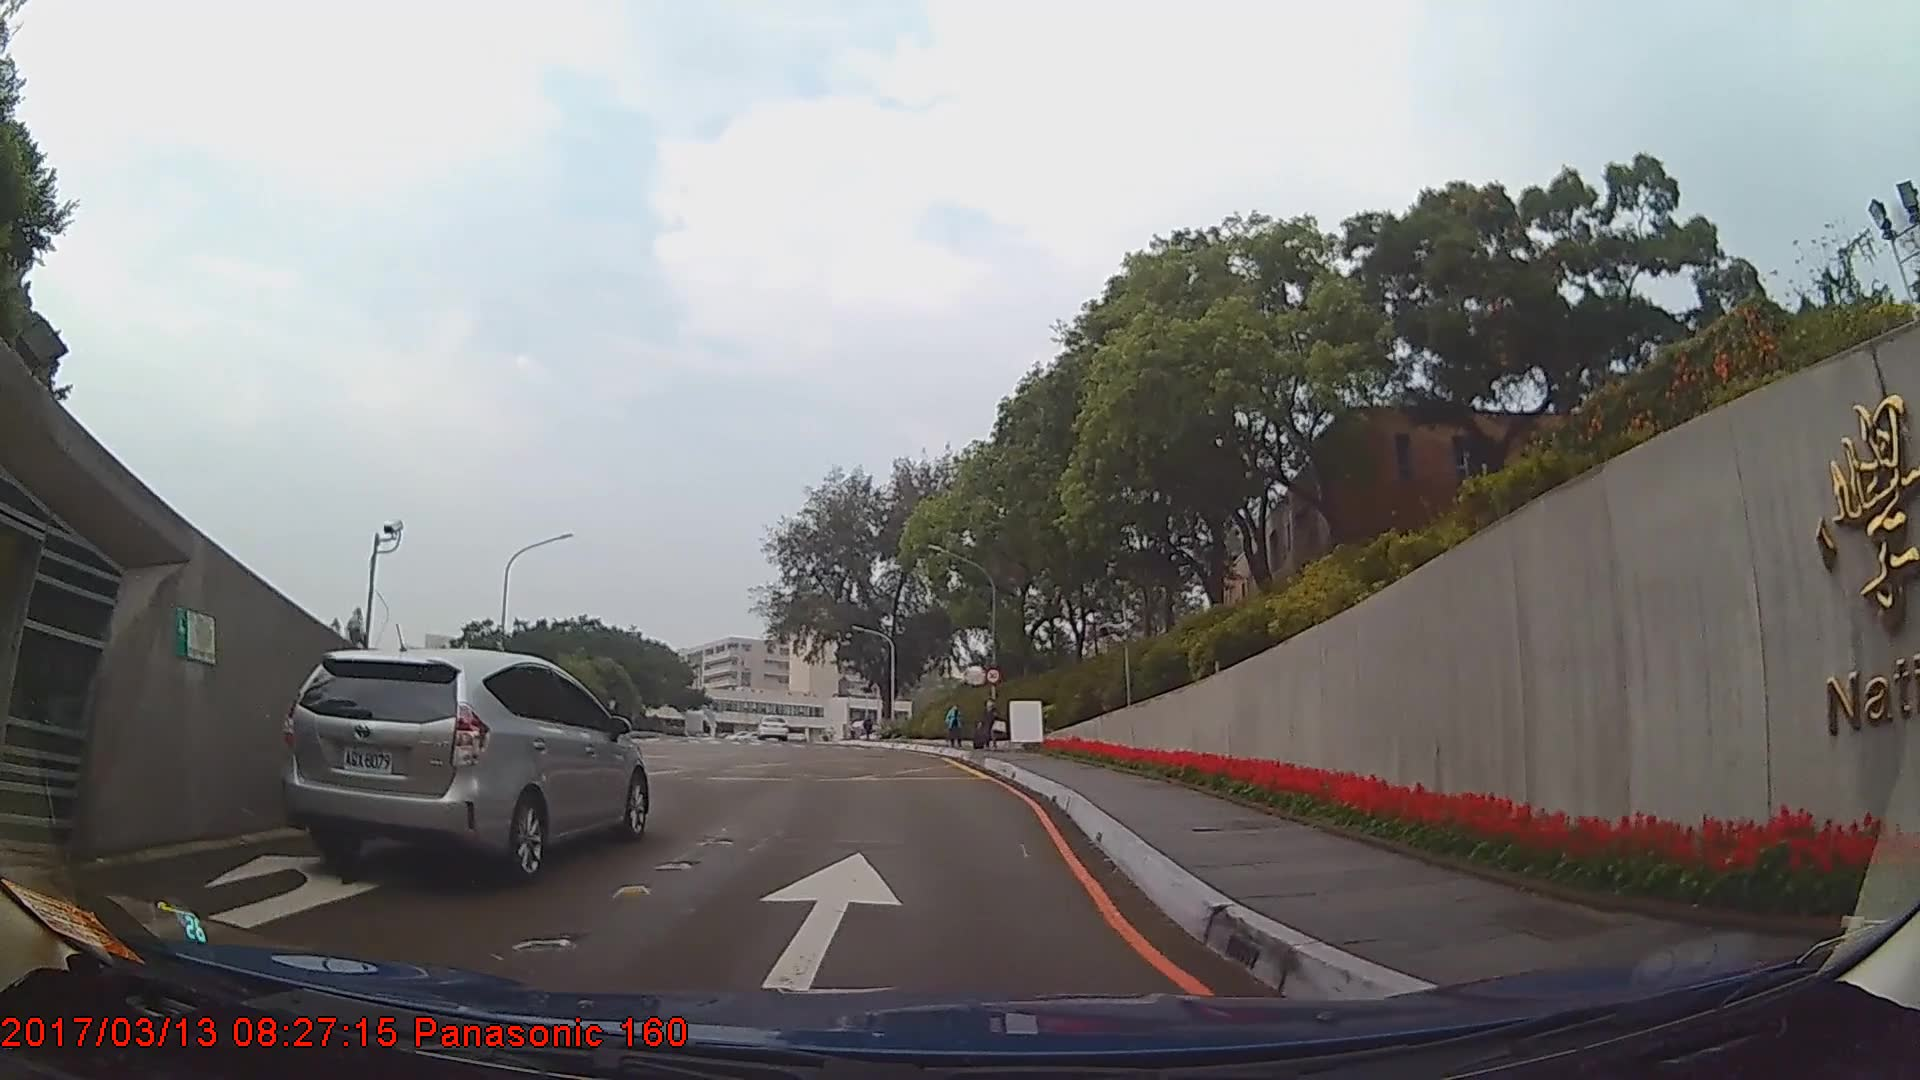pedestrian: (973, 695, 1009, 750), (944, 705, 966, 751)
vehicle: (277, 646, 649, 887), (752, 711, 787, 738)
